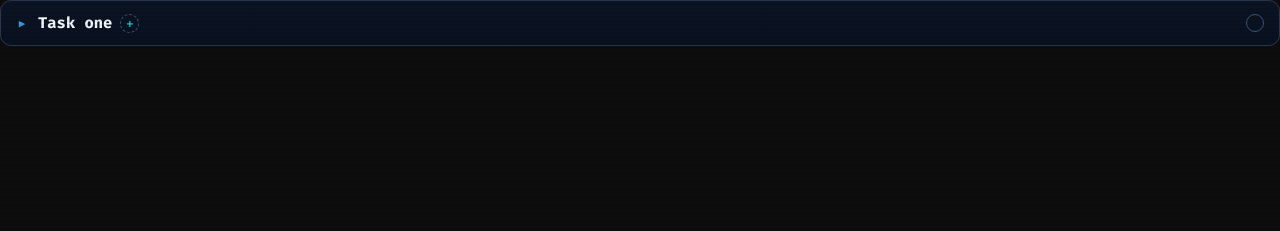
Test: with no subtasks: exactly one whole-task planner strip
Click the text titled "expand" at (22,23), box [19,16,25,30]
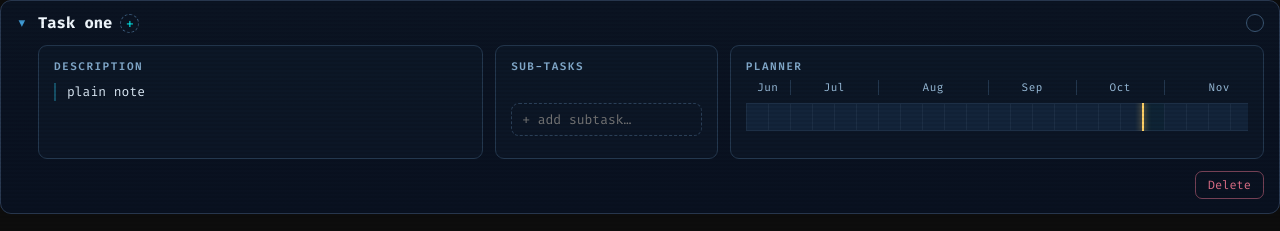
Expected: the element with test id "task-planner" is shown, [746,103,1248,131]
